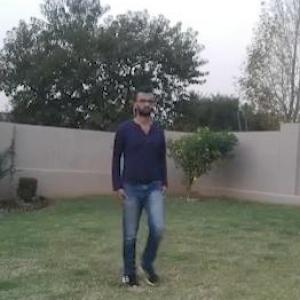follow: (113, 90, 168, 272)
